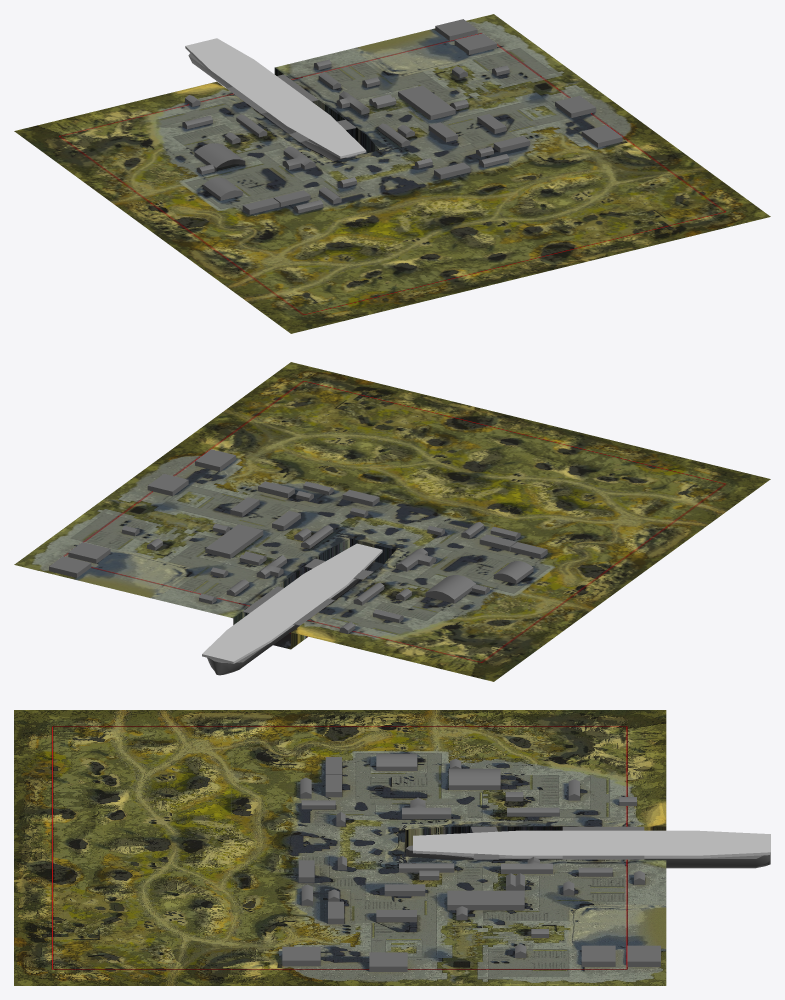
File: map.fbx
3 views of the same model, one above another, from view 1: azimuth 30°, elevation 25°; view 2: azimuth 150°, elevation 25°; view 3: azimuth 270°, elevation 25° (orthographic). The views are drawn at different scales.
Visible parts, largest first — view 1: 평면, 9, 6, 3, 7, 8, 2, 1, 5, 4; view 2: 평면, 3, 6, 9, 7, 8, 5, 2, 1, 4; view 3: 평면, 9, 3, 6, 8, 7, 2, 1, 5, 4.
Part boxes in pixels (x1,y1,x2,y2): 평면: [182, 19, 622, 214]; 9: [199, 227, 450, 333]; 6: [359, 188, 610, 294]; 3: [519, 149, 770, 255]; 7: [14, 92, 265, 198]; 8: [106, 160, 357, 266]; 2: [427, 81, 678, 187]; 1: [334, 14, 585, 120]; 5: [266, 120, 518, 227]; 4: [174, 53, 425, 159]; 평면: [49, 449, 547, 675]; 3: [199, 362, 450, 468]; 6: [359, 401, 610, 507]; 9: [519, 440, 770, 546]; 7: [334, 575, 585, 681]; 8: [427, 508, 678, 614]; 5: [266, 468, 518, 575]; 2: [106, 429, 357, 535]; 1: [14, 497, 265, 603]; 4: [174, 536, 425, 649]; 평면: [282, 753, 770, 971]; 9: [14, 710, 231, 801]; 3: [14, 894, 231, 985]; 6: [14, 802, 231, 893]; 8: [231, 710, 448, 801]; 7: [449, 710, 666, 801]; 2: [231, 894, 448, 985]; 1: [449, 894, 666, 985]; 5: [231, 802, 448, 893]; 4: [449, 802, 666, 893].
Size of the model in its own units: 440 by 22.25 by 511.
